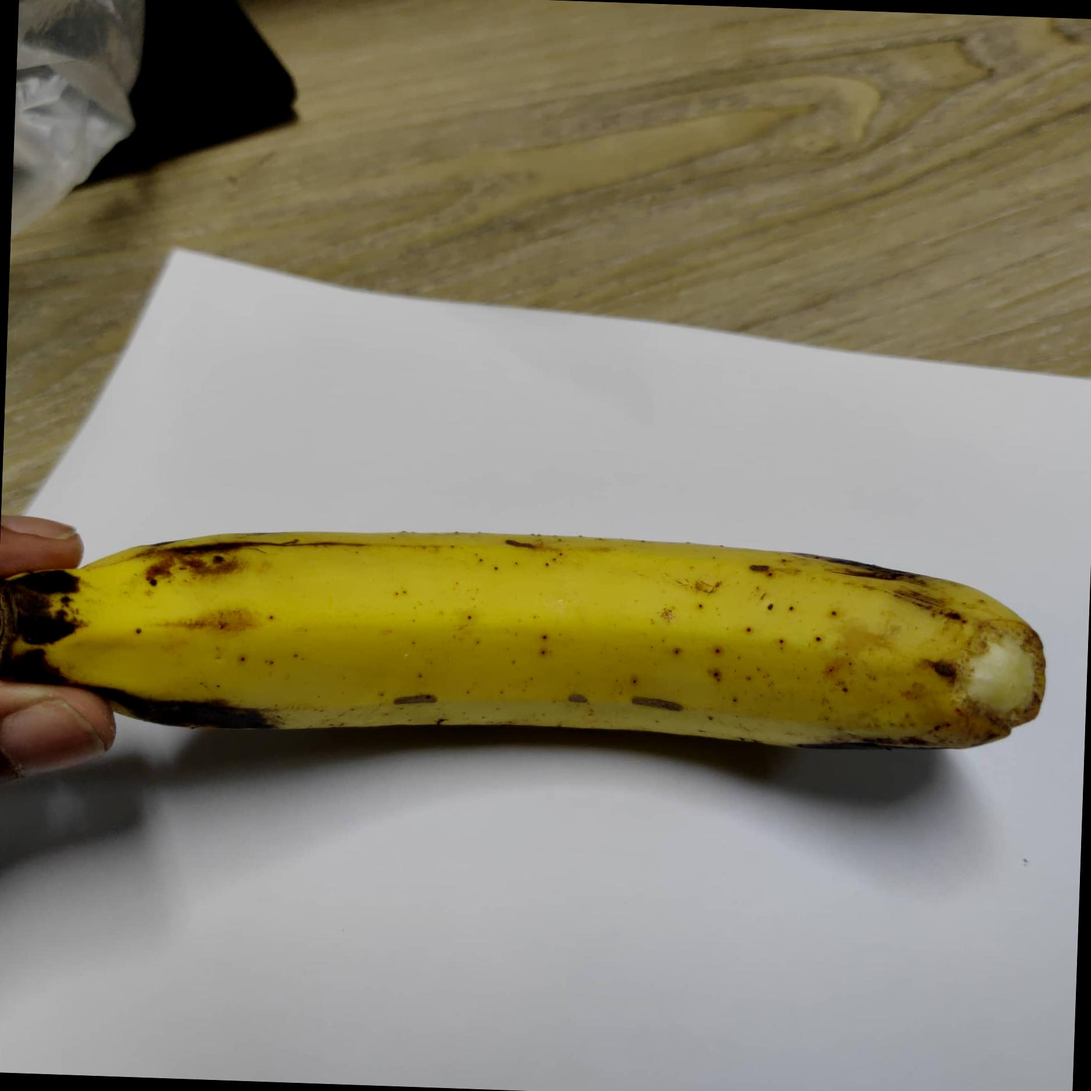Banana Ripe: (0, 456, 1091, 848)
